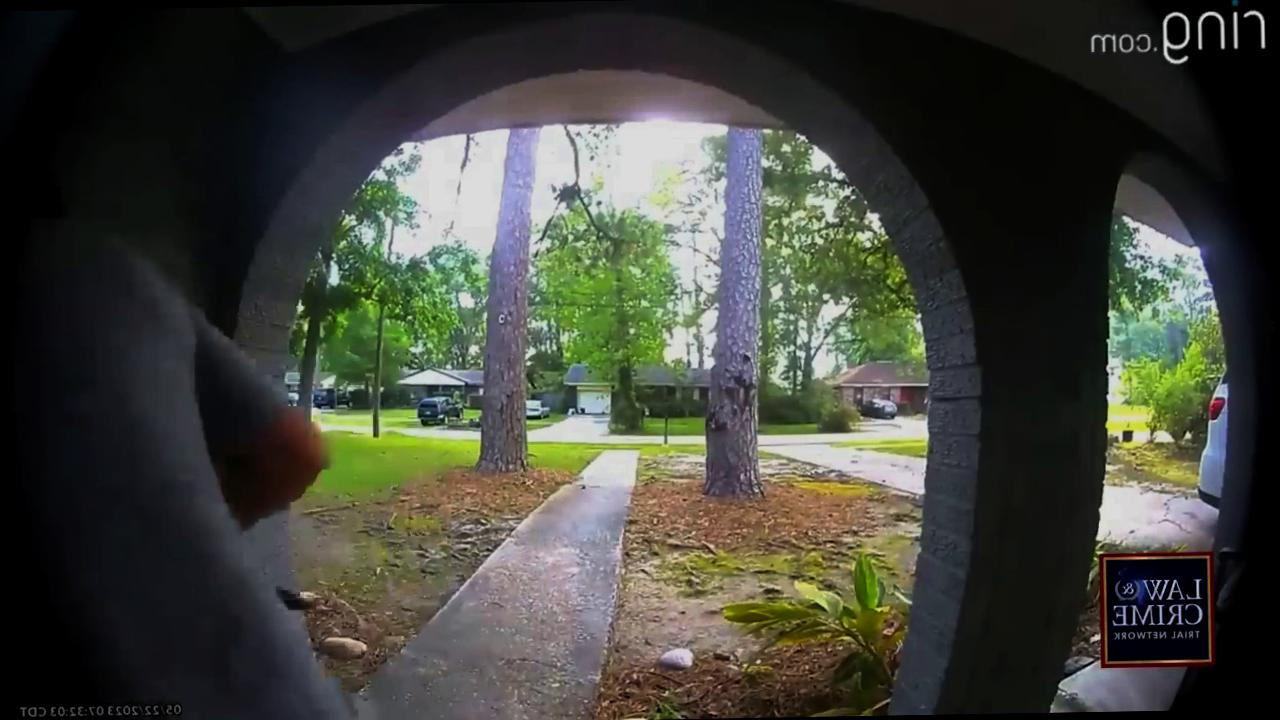suspicion: (0, 159, 368, 720)
